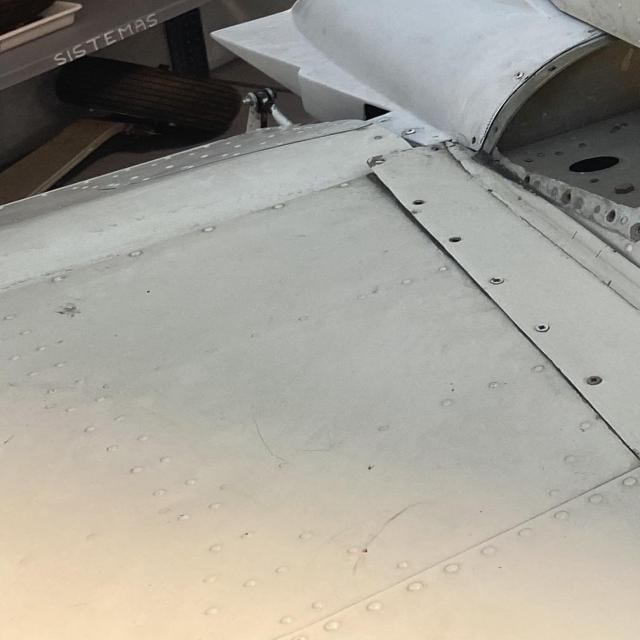Missing-head: (411, 199, 427, 206), (448, 236, 463, 243)
